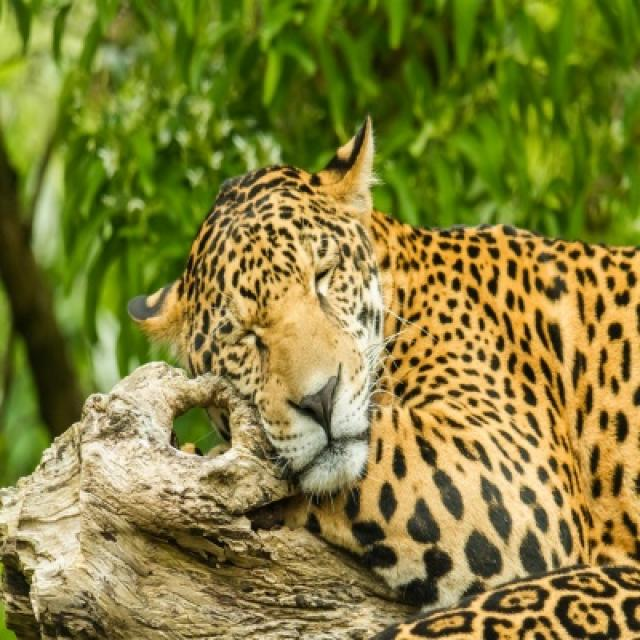Jaguar: (163, 122, 638, 614)
